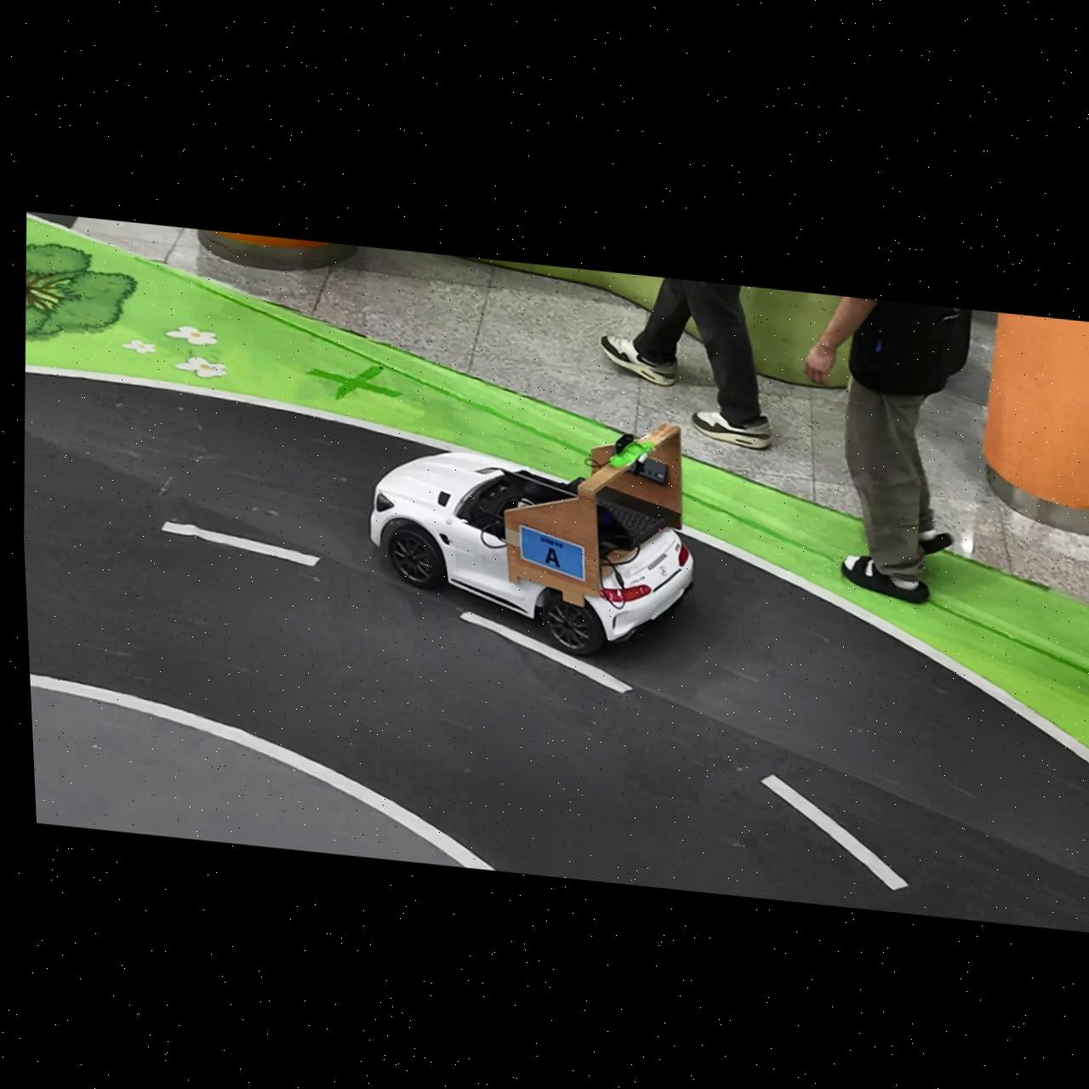broken_line: (761, 774, 907, 890), (459, 611, 633, 693), (161, 521, 320, 566)
